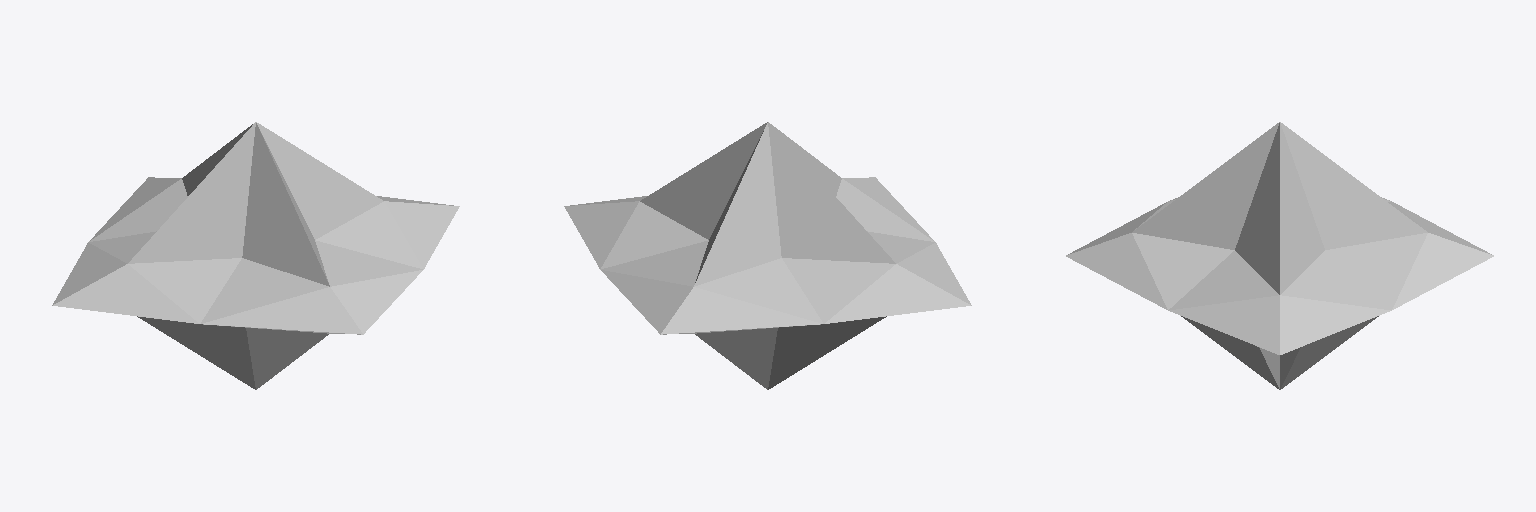
File: bullet.obj
The picture shows the model from 3 angles: view 1: azimuth 30°, elevation 25°; view 2: azimuth 150°, elevation 25°; view 3: azimuth 270°, elevation 25°; orthographic projection.
Parts seen in each view (by area): view 1: Cube; view 2: Cube; view 3: Cube.
Boxes of the visible parts, box(x1,y1,x2,y2) form: Cube: box(52, 122, 459, 389); Cube: box(564, 122, 971, 389); Cube: box(1066, 122, 1493, 389).
Bounding box in the file's own units: 3.18 × 2 × 2.9.